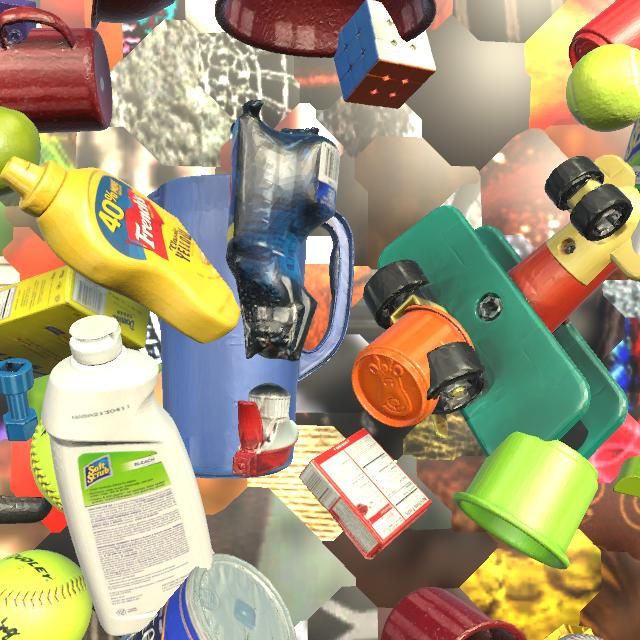ycb_002_master_chef_can: (119, 553, 296, 640)
ycb_004_sugar_box: (0, 265, 150, 379)
ycb_006_mustard_bottle: (0, 157, 240, 344)
ycb_009_gelatin_box: (299, 428, 432, 560)
ycb_016_pear: (0, 106, 41, 197)
